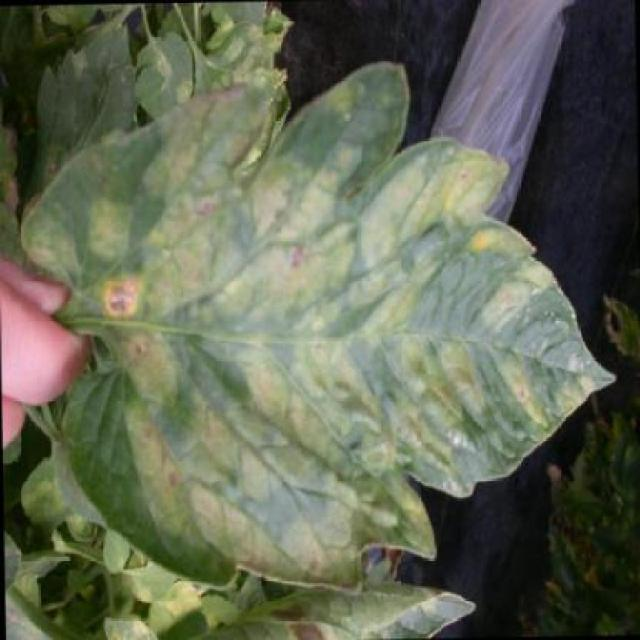Leaf Mold: (69, 55, 629, 609)
